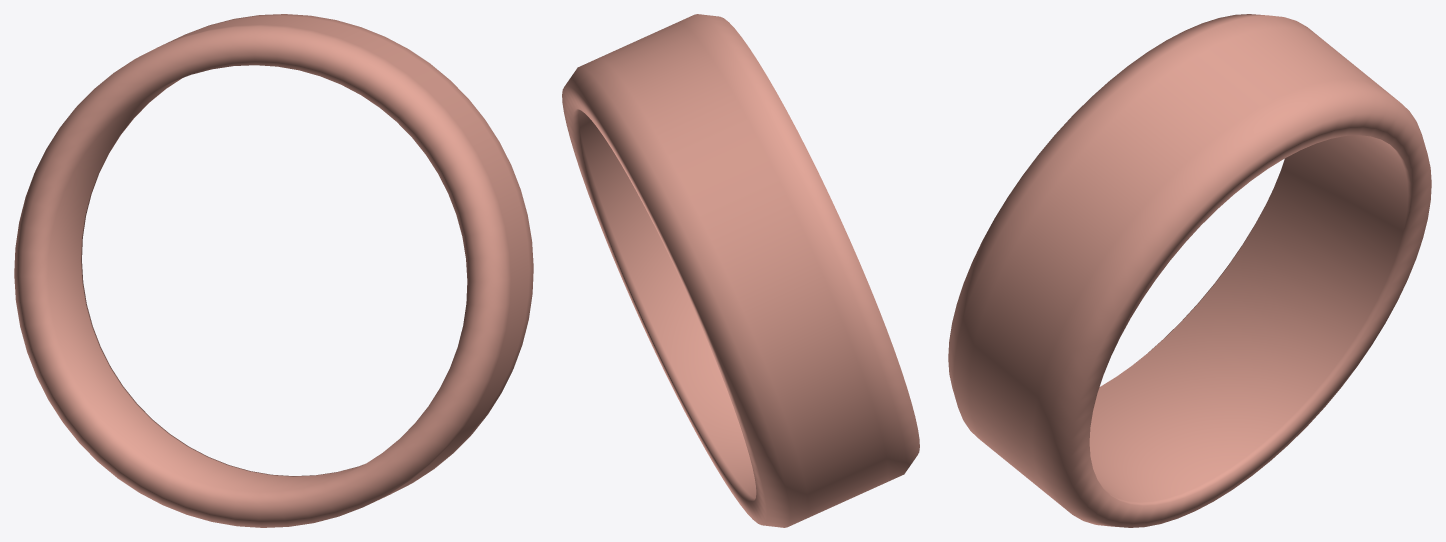
Rendered from ring-1.glb.
3 renders of one model, left to right at view 1: azimuth 30°, elevation 25°; view 2: azimuth 150°, elevation 25°; view 3: azimuth 270°, elevation 25°, orthographic. The views are drawn at different scales.
Parts seen in each view (by area): view 1: ring; view 2: ring; view 3: ring.
Part boxes in pixels (x1,y1,x2,y2): ring: [14, 14, 533, 527]; ring: [562, 14, 919, 527]; ring: [948, 14, 1431, 527].
Bounding box in the file's own units: 1.98 × 2.16 × 1.93.
